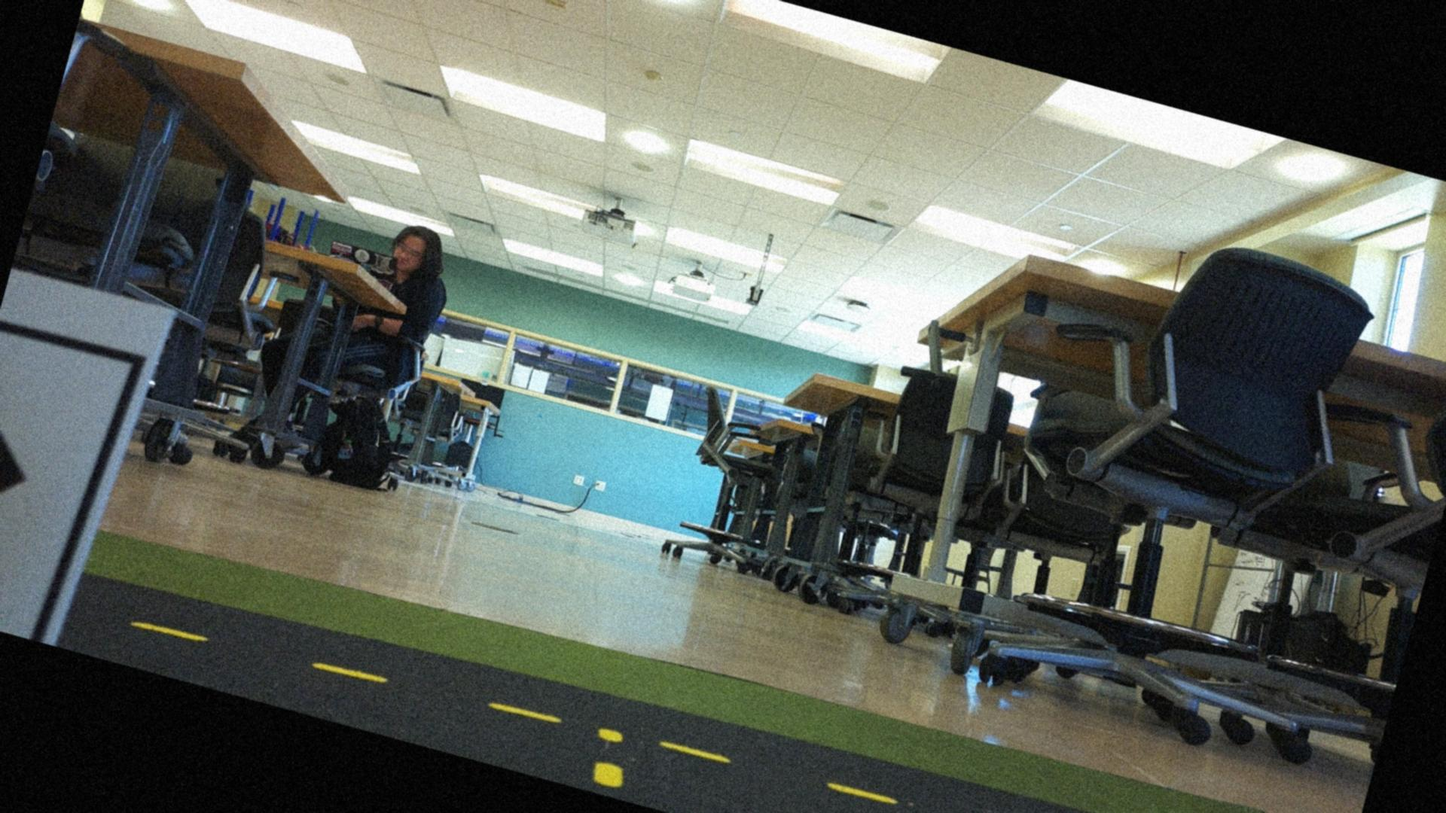yellowline: (136, 571, 1339, 812)
